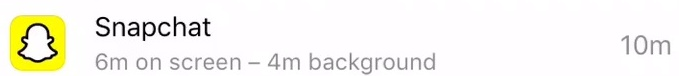name: (89, 6, 224, 44)
time: (262, 48, 304, 75), (92, 49, 133, 75)
